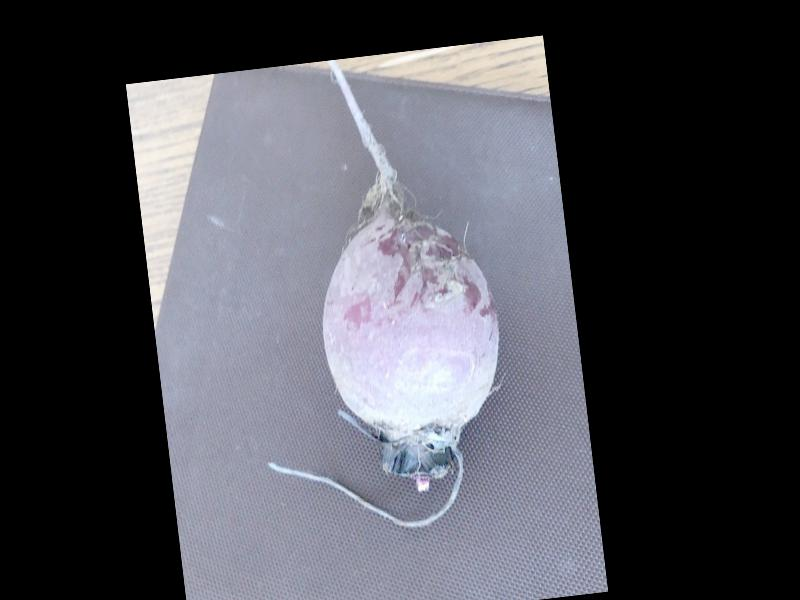Beet: (221, 44, 522, 543)
